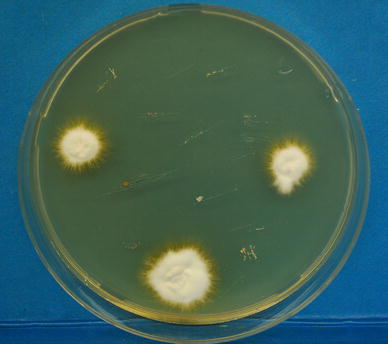Trichophyton: (144, 244, 215, 301), (54, 122, 107, 169), (268, 139, 305, 191)
